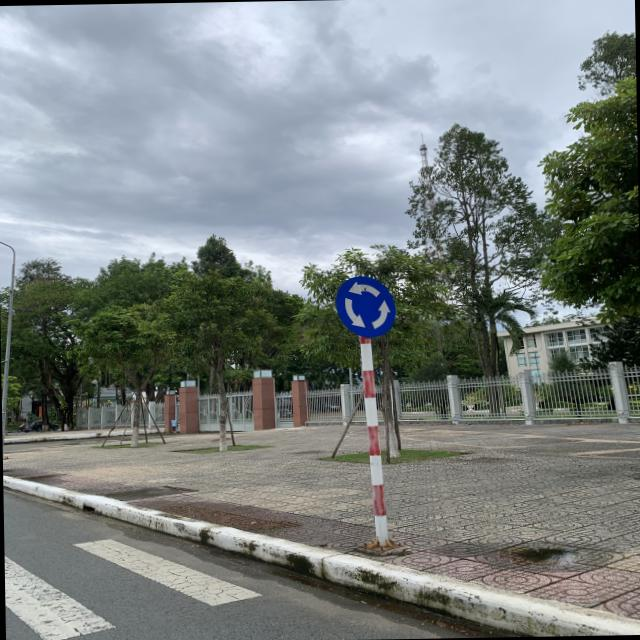Xe_Bus: (338, 276, 394, 336)
